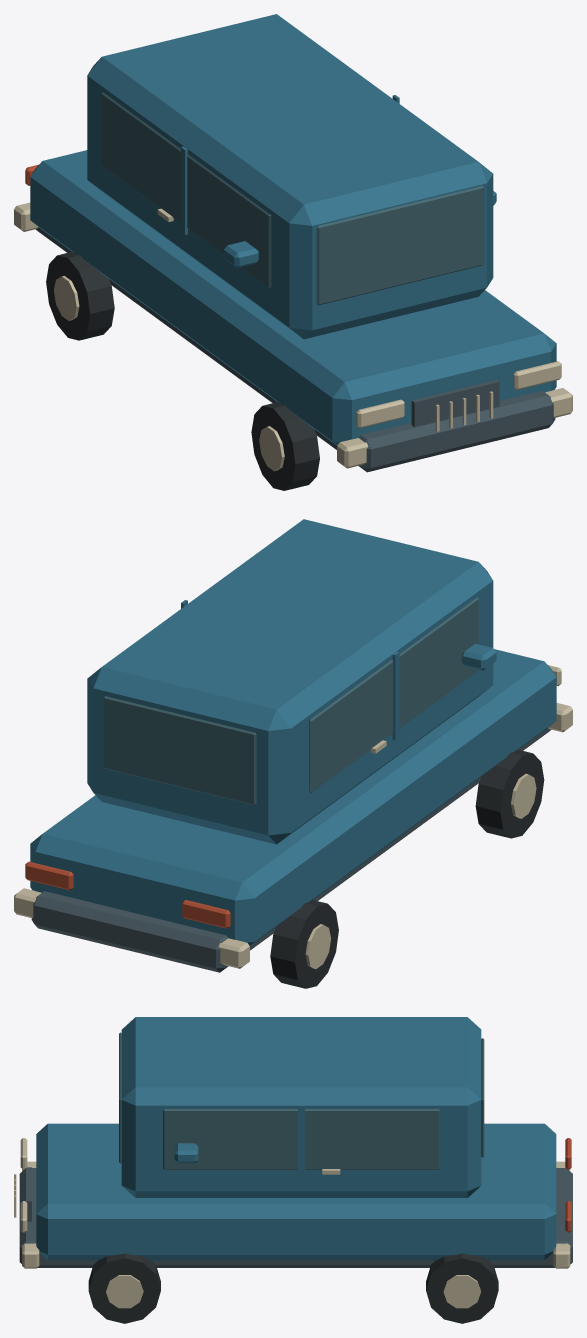
Rendered from vehicle_van.glb.
3 views of the same model, one above another, from view 1: azimuth 30°, elevation 25°; view 2: azimuth 150°, elevation 25°; view 3: azimuth 270°, elevation 25° (orthographic). The views are drawn at different scales.
Parts seen in each view (by area): view 1: vehicle_van; view 2: vehicle_van; view 3: vehicle_van.
Part boxes in pixels (<box>): vehicle_van: <box>14,14,572,490</box>; vehicle_van: <box>14,519,572,988</box>; vehicle_van: <box>14,1017,572,1323</box>.
Size of the model in its own units: 2.34 by 2.3 by 5.25.
